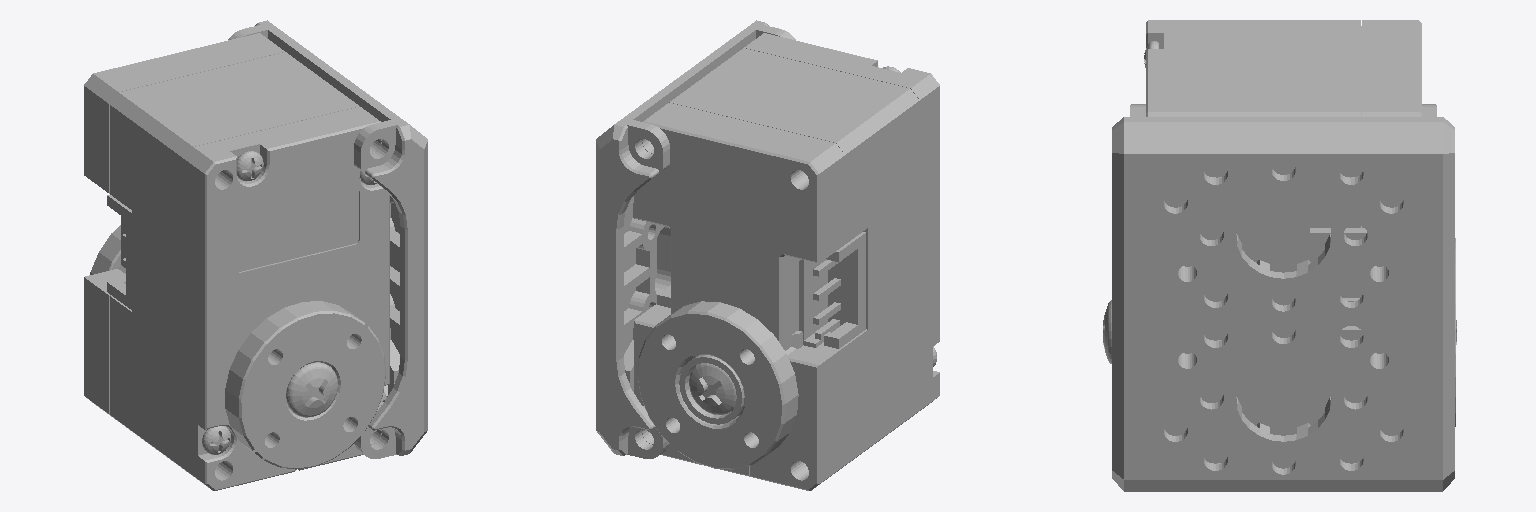
The robot description file, URDF, robot "onshape":
<robot name="onshape">
<link name="palm_lower_left">
<visual>
<origin xyz="-0.095574224938392599027 -0.11704001150113751972 0.02077960705260517571" rpy="1.57079632679489678 1.1239611599647231752e-28 3.1415926535897908956" />
<geometry>
<mesh filename="package://leap_hand_densetact/model/leap_left/palm_lower_left.stl"/>
</geometry>
<material name="palm_lower_left_material">
<color rgba="0.60392156862745094426 0.14901960784313725283 0.14901960784313725283 1.0"/>
</material>
</visual>
<collision>
<origin xyz="-0.095574224938392599027 -0.11704001150113751972 0.02077960705260517571" rpy="1.57079632679489678 1.1239611599647231752e-28 3.1415926535897908956" />
<geometry>
<mesh filename="package://leap_hand_densetact/model/leap_left/palm_lower_left.stl"/>
</geometry>
</collision>
<inertial>
<origin xyz="0 0 0" rpy="0 0 0"/>
<mass value="0.235" />
<inertia ixx="0.000351007" ixy="-0.000001393"  ixz="-0.000000694" iyy="0.000523205" iyz="-0.000003085" izz="0.000256996" />
</inertial>
</link>

<link name="mcp_joint">
<visual>
<origin xyz="0.008406902261174501248 0.0077662438597169980437 0.014657354985032899908" rpy="1.6375789613220999807e-15 -1.0045650589924324925e-30 -1.7121057196142940206e-44" />
<geometry>
<mesh filename="package://leap_hand_densetact/model/leap_left/mcp_joint.stl"/>
</geometry>
<material name="mcp_joint_material">
<color rgba="0.86666666666666669627 0.86666666666666669627 0.050980392156862744391 1.0"/>
</material>
</visual>
<collision>
<origin xyz="0.008406902261174501248 0.0077662438597169980437 0.014657354985032899908" rpy="1.6375789613220999807e-15 -1.0045650589924324925e-30 -1.7121057196142940206e-44" />
<geometry>
<mesh filename="package://leap_hand_densetact/model/leap_left/mcp_joint.stl"/>
</geometry>
</collision>
<inertial>
<origin xyz="0 0 0" rpy="0 0 0"/>
<mass value="0.044" />
<inertia ixx="0.000011499" ixy="0.000003049"  ixz="0.000000121" iyy="0.000007796" iyz="0.000000112" izz="0.000014759" />
</inertial>
</link>

<link name="pip">
<visual>
<origin xyz="0.0096433630922713314826 0.00029999999999999471534 0.00078403401041737472155" rpy="-1.570796326794896558 -1.570796326794896336 0" />
<geometry>
<mesh filename="package://leap_hand_densetact/model/leap_left/pip.stl"/>
</geometry>
<material name="pip_material">
<color rgba="0.74901960784313725839 0.74901960784313725839 0.74901960784313725839 1.0"/>
</material>
</visual>
<collision>
<origin xyz="0.0096433630922713314826 0.00029999999999999471534 0.00078403401041737472155" rpy="-1.570796326794896558 -1.570796326794896336 0" />
<geometry>
<mesh filename="package://leap_hand_densetact/model/leap_left/pip.stl"/>
</geometry>
</collision>
<inertial>
<origin xyz="0 0 0" rpy="0 0 0"/>
<mass value="0.032" />
<inertia ixx="0.000004798" ixy="0.000000012"  ixz="0.000000004" iyy="0.000002862" iyz="0.000000011" izz="0.000004234" />
</inertial>
</link>

<link name="dip">
<visual>
<origin xyz="0.021133352895225002849 -0.0084321191467048722812 0.0097850881620952234741" rpy="-3.141592653589793116 4.5075111242164408299e-32 4.4395481053923607589e-32" />
<geometry>
<mesh filename="package://leap_hand_densetact/model/leap_left/dip.stl"/>
</geometry>
<material name="dip_material">
<color rgba="0.86666666666666669627 0.86666666666666669627 0.050980392156862744391 1.0"/>
</material>
</visual>
<collision>
<origin xyz="0.021133352895225002849 -0.0084321191467048722812 0.0097850881620952234741" rpy="-3.141592653589793116 4.5075111242164408299e-32 4.4395481053923607589e-32" />
<geometry>
<mesh filename="package://leap_hand_densetact/model/leap_left/dip.stl"/>
</geometry>
</collision>
<inertial>
<origin xyz="0 0 0" rpy="0 0 0"/>
<mass value="0.037" />
<inertia ixx="0.000005542" ixy="-0.000000607"  ixz="-0.000000017" iyy="0.000005727" iyz="-0.000000023" izz="0.000006682" />
</inertial>
</link>

<link name="fingertip">
<visual>
<origin xyz="0.013286424108533503169 -0.00611423838654200167 0.014499999999999513278" rpy="3.141592653589793116 1.1993117970061734707e-33 4.4395481053923607589e-32" />
<geometry>
<mesh filename="package://leap_hand_densetact/model/leap_left/fingertip.stl"/>
</geometry>
<material name="fingertip_material">
<color rgba="0.86666666666666669627 0.86666666666666669627 0.050980392156862744391 1.0"/>
</material>
</visual>
<collision>
<origin xyz="0.013286424108533503169 -0.00611423838654200167 0.014499999999999513278" rpy="3.141592653589793116 1.1993117970061734707e-33 4.4395481053923607589e-32" />
<geometry>
<mesh filename="package://leap_hand_densetact/model/leap_left/fingertip.stl"/>
</geometry>
</collision>
<inertial>
<origin xyz="0 0 0" rpy="0 0 0"/>
<mass value="0.016" />
<inertia ixx="0.000003368" ixy="0.000000115"  ixz="0" iyy="0.000001556" iyz="0" izz="0.000002863" />
</inertial>
</link>

<joint name="0" type="revolute">
<origin xyz="-0.012200000000000005979 0.038100000000000001921 0.014499999999999985123" rpy="-1.57079632679489678 2.8029314871654157891e-15 1.570796326794896336" />
<parent link="mcp_joint" />
<child link="pip" />
<axis xyz="0 0 -1"/>
<limit effort="0.95" velocity="8.48" lower = "-1.047" upper = "1.047"/>
<joint_properties friction="0.0"/>
</joint>

<joint name="1" type="revolute">
<origin xyz="-0.082574224938392518092 -0.085740011501137525229 0.0078008885838987494094" rpy="1.5707963267948987784 1.570796326794896558 0" />
<parent link="palm_lower_left" />
<child link="mcp_joint" />
<axis xyz="0 0 -1"/>
<limit effort="0.95" velocity="8.48" lower = "-0.314" upper = "2.23"/>
<joint_properties friction="0.0"/>
</joint>

<joint name="2" type="revolute">
<origin xyz="0.014999999999999961281 0.014299999999999993272 -0.013000000000000025424" rpy="1.5707963267948958919 -1.570796326794896336 0" />
<parent link="pip" />
<child link="dip" />
<axis xyz="0 0 -1"/>
<limit effort="0.95" velocity="8.48" lower = "-0.506" upper = "1.885"/>  
<joint_properties friction="0.0"/>
</joint>

<joint name="3" type="revolute">
<origin xyz="-4.0880582469551840497e-09 -0.03610000421036734658 0.0002000000000000612399" rpy="4.5935029425113685044e-17 -2.8730071914463794583e-16 4.4395481053923607589e-32" />
<parent link="dip" />
<child link="fingertip" />
<axis xyz="0 0 -1"/>
<limit effort="0.95" velocity="8.48" lower = "-0.366" upper = "2.042"/>   
<joint_properties friction="0.0"/>
</joint>

<link name="mcp_joint_2">
<visual>
<origin xyz="0.008406902261174501248 0.0077662438597169841659 0.014657354985032906847" rpy="1.6375789613220997835e-15 -1.0045650589925207743e-30 -1.2404717968013979433e-44" />
<geometry>
<mesh filename="package://leap_hand_densetact/model/leap_left/mcp_joint.stl"/>
</geometry>
<material name="mcp_joint_material">
<color rgba="0.86666666666666669627 0.86666666666666669627 0.050980392156862744391 1.0"/>
</material>
</visual>
<collision>
<origin xyz="0.008406902261174501248 0.0077662438597169841659 0.014657354985032906847" rpy="1.6375789613220997835e-15 -1.0045650589925207743e-30 -1.2404717968013979433e-44" />
<geometry>
<mesh filename="package://leap_hand_densetact/model/leap_left/mcp_joint.stl"/>
</geometry>
</collision>
<inertial>
<origin xyz="0 0 0" rpy="0 0 0"/>
<mass value="0.044" />
<inertia ixx="0.000011499" ixy="0.000003049"  ixz="0.000000121" iyy="0.000007796" iyz="0.000000112" izz="0.000014759" />
</inertial>
</link>

<link name="pip_2">
<visual>
<origin xyz="0.0096433630922713314826 0.00029999999999998777644 0.00078403401041737472155" rpy="-1.570796326794896558 -1.570796326794896336 0" />
<geometry>
<mesh filename="package://leap_hand_densetact/model/leap_left/pip.stl"/>
</geometry>
<material name="pip_material">
<color rgba="0.74901960784313725839 0.74901960784313725839 0.74901960784313725839 1.0"/>
</material>
</visual>
<collision>
<origin xyz="0.0096433630922713314826 0.00029999999999998777644 0.00078403401041737472155" rpy="-1.570796326794896558 -1.570796326794896336 0" />
<geometry>
<mesh filename="package://leap_hand_densetact/model/leap_left/pip.stl"/>
</geometry>
</collision>
<inertial>
<origin xyz="0 0 0" rpy="0 0 0"/>
<mass value="0.032" />
<inertia ixx="0.000004798" ixy="0.000000012"  ixz="0.000000004" iyy="0.000002862" iyz="0.000000011" izz="0.000004234" />
</inertial>
</link>

<link name="dip_2">
<visual>
<origin xyz="0.021133352895225002849 -0.0084321191467048722812 0.0097850881620952373519" rpy="-3.141592653589793116 2.1146933785271955805e-32 1.4408183216511868558e-31" />
<geometry>
<mesh filename="package://leap_hand_densetact/model/leap_left/dip.stl"/>
</geometry>
<material name="dip_material">
<color rgba="0.86666666666666669627 0.86666666666666669627 0.050980392156862744391 1.0"/>
</material>
</visual>
<collision>
<origin xyz="0.021133352895225002849 -0.0084321191467048722812 0.0097850881620952373519" rpy="-3.141592653589793116 2.1146933785271955805e-32 1.4408183216511868558e-31" />
<geometry>
<mesh filename="package://leap_hand_densetact/model/leap_left/dip.stl"/>
</geometry>
</collision>
<inertial>
<origin xyz="0 0 0" rpy="0 0 0"/>
<mass value="0.037" />
<inertia ixx="0.000005542" ixy="-0.000000607"  ixz="-0.000000017" iyy="0.000005727" iyz="-0.000000023" izz="0.000006682" />
</inertial>
</link>

<link name="fingertip_2">
<visual>
<origin xyz="0.013286424108533503169 -0.0061142383865419982006 0.014499999999999492462" rpy="3.141592653589793116 -4.3179597882835943107e-33 1.4408183216511868558e-31" />
<geometry>
<mesh filename="package://leap_hand_densetact/model/leap_left/fingertip.stl"/>
</geometry>
<material name="fingertip_material">
<color rgba="0.86666666666666669627 0.86666666666666669627 0.050980392156862744391 1.0"/>
</material>
</visual>
<collision>
<origin xyz="0.013286424108533503169 -0.0061142383865419982006 0.014499999999999492462" rpy="3.141592653589793116 -4.3179597882835943107e-33 1.4408183216511868558e-31" />
<geometry>
<mesh filename="package://leap_hand_densetact/model/leap_left/fingertip.stl"/>
</geometry>
</collision>
<inertial>
<origin xyz="0 0 0" rpy="0 0 0"/>
<mass value="0.016" />
<inertia ixx="0.000003368" ixy="0.000000115"  ixz="0" iyy="0.000001556" iyz="0" izz="0.000002863" />
</inertial>
</link>

<joint name="4" type="revolute">
<origin xyz="-0.012200000000000002509 0.038099999999999988043 0.014499999999999999001" rpy="-1.570796326794896558 1.6094417208041279902e-15 1.5707963267948943376" />
<parent link="mcp_joint_2" />
<child link="pip_2" />
<axis xyz="0 0 -1"/>
<limit effort="0.95" velocity="8.48" lower = "-1.047" upper = "1.047"/>
<joint_properties friction="0.0"/>
</joint>

<joint name="5" type="revolute">
<origin xyz="-0.08257422493900856697 -0.040290011501137479311 0.007800888583679612201" rpy="1.5707963267948992225 1.570796326794896558 0" />
<parent link="palm_lower_left" />
<child link="mcp_joint_2" />
<axis xyz="0 0 -1"/>
<limit effort="0.95" velocity="8.48" lower = "-0.314" upper = "2.23"/>
<joint_properties friction="0.0"/>
</joint>

<joint name="6" type="revolute">
<origin xyz="0.01499999999999996475 0.014299999999999986333 -0.013000000000000025424" rpy="1.5707963267948958919 -1.570796326794896336 0" />
<parent link="pip_2" />
<child link="dip_2" />
<axis xyz="0 0 -1"/>
<limit effort="0.95" velocity="8.48" lower = "-0.506" upper = "1.885"/>  
<joint_properties friction="0.0"/>
</joint>


<joint name="7" type="revolute">
<origin xyz="1.0408340855860842566e-16 -0.036099999999999875244 0.00020000000000007511769" rpy="4.5935029425113654229e-17 -2.8730071914463794583e-16 1.4408183216511868558e-31" />
<parent link="dip_2" />
<child link="fingertip_2" />
<axis xyz="0 0 -1"/>
<limit effort="0.95" velocity="8.48" lower = "-0.366" upper = "2.042"/>   
<joint_properties friction="0.0"/>
</joint>

<link name="mcp_joint_3">
<visual>
<origin xyz="0.008406902261174501248 0.0077662438597169980437 0.014657354985032912051" rpy="1.6375789613220999807e-15 -1.0045650589924056927e-30 -1.6748666234615871922e-44" />
<geometry>
<mesh filename="package://leap_hand_densetact/model/leap_left/mcp_joint.stl"/>
</geometry>
<material name="mcp_joint_material">
<color rgba="0.86666666666666669627 0.86666666666666669627 0.050980392156862744391 1.0"/>
</material>
</visual>
<collision>
<origin xyz="0.008406902261174501248 0.0077662438597169980437 0.014657354985032912051" rpy="1.6375789613220999807e-15 -1.0045650589924056927e-30 -1.6748666234615871922e-44" />
<geometry>
<mesh filename="package://leap_hand_densetact/model/leap_left/mcp_joint.stl"/>
</geometry>
</collision>
<inertial>
<origin xyz="0 0 0" rpy="0 0 0"/>
<mass value="0.044" />
<inertia ixx="0.000011499" ixy="0.000003049"  ixz="0.000000121" iyy="0.000007796" iyz="0.000000112" izz="0.000014759" />
</inertial>
</link>

<link name="pip_3">
<visual>
<origin xyz="0.0096433630922713314826 0.00029999999999999124589 0.00078403401041737472155" rpy="-1.570796326794896558 -1.570796326794896336 0" />
<geometry>
<mesh filename="package://leap_hand_densetact/model/leap_left/pip.stl"/>
</geometry>
<material name="pip_material">
<color rgba="0.74901960784313725839 0.74901960784313725839 0.74901960784313725839 1.0"/>
</material>
</visual>
<collision>
<origin xyz="0.0096433630922713314826 0.00029999999999999124589 0.00078403401041737472155" rpy="-1.570796326794896558 -1.570796326794896336 0" />
<geometry>
<mesh filename="package://leap_hand_densetact/model/leap_left/pip.stl"/>
</geometry>
</collision>
<inertial>
<origin xyz="0 0 0" rpy="0 0 0"/>
<mass value="0.032" />
<inertia ixx="0.000004798" ixy="0.000000012"  ixz="0.000000004" iyy="0.000002862" iyz="0.000000011" izz="0.000004234" />
</inertial>
</link>

<link name="dip_3">
<visual>
<origin xyz="0.021133352895225006318 -0.0084321191467048688117 0.0097850881620952408213" rpy="-3.141592653589793116 -1.4095651113919093005e-33 1.5565411607615035382e-32" />
<geometry>
<mesh filename="package://leap_hand_densetact/model/leap_left/dip.stl"/>
</geometry>
<material name="dip_material">
<color rgba="0.86666666666666669627 0.86666666666666669627 0.050980392156862744391 1.0"/>
</material>
</visual>
<collision>
<origin xyz="0.021133352895225006318 -0.0084321191467048688117 0.0097850881620952408213" rpy="-3.141592653589793116 -1.4095651113919093005e-33 1.5565411607615035382e-32" />
<geometry>
<mesh filename="package://leap_hand_densetact/model/leap_left/dip.stl"/>
</geometry>
</collision>
<inertial>
<origin xyz="0 0 0" rpy="0 0 0"/>
<mass value="0.037" />
<inertia ixx="0.000005542" ixy="-0.000000607"  ixz="-0.000000017" iyy="0.000005727" iyz="-0.000000023" izz="0.000006682" />
</inertial>
</link>

<link name="fingertip_3">
<visual>
<origin xyz="0.013286424108533499699 -0.00611423838654200167 0.014499999999999495931" rpy="3.141592653589793116 8.6170716950575402125e-33 1.5565411607615035382e-32" />
<geometry>
<mesh filename="package://leap_hand_densetact/model/leap_left/fingertip.stl"/>
</geometry>
<material name="fingertip_material">
<color rgba="0.86666666666666669627 0.86666666666666669627 0.050980392156862744391 1.0"/>
</material>
</visual>
<collision>
<origin xyz="0.013286424108533499699 -0.00611423838654200167 0.014499999999999495931" rpy="3.141592653589793116 8.6170716950575402125e-33 1.5565411607615035382e-32" />
<geometry>
<mesh filename="package://leap_hand_densetact/model/leap_left/fingertip.stl"/>
</geometry>
</collision>
<inertial>
<origin xyz="0 0 0" rpy="0 0 0"/>
<mass value="0.016" />
<inertia ixx="0.000003368" ixy="0.000000115"  ixz="0" iyy="0.000001556" iyz="0" izz="0.000002863" />
</inertial>
</link>

<joint name="8" type="revolute">
<origin xyz="-0.012200000000000002509 0.038100000000000001921 0.01450000000000000247" rpy="-1.57079632679489678 2.8029314871654240721e-15 1.570796326794896336" />
<parent link="mcp_joint_3" />
<child link="pip_3" />
<axis xyz="0 0 -1"/>
<limit effort="0.95" velocity="8.48" lower = "-1.047" upper = "1.047"/>
<joint_properties friction="0.0"/>
</joint>

<joint name="9" type="revolute">
<origin xyz="-0.082574224938392323803 0.0051599884988625839555 0.0078008885838987598177" rpy="1.5707963267948987784 1.570796326794896558 0" />
<parent link="palm_lower_left" />
<child link="mcp_joint_3" />
<axis xyz="0 0 -1"/>
<limit effort="0.95" velocity="8.48" lower = "-0.314" upper = "2.23"/>
<joint_properties friction="0.0"/>
</joint>

<joint name="10" type="revolute">
<origin xyz="0.01499999999999996822 0.014299999999999989803 -0.013000000000000025424" rpy="1.5707963267948958919 -1.570796326794896336 0" />
<parent link="pip_3" />
<child link="dip_3" />
<axis xyz="0 0 -1"/>
<limit effort="0.95" velocity="8.48" lower = "-0.506" upper = "1.885"/>  
<joint_properties friction="0.0"/>
</joint>

<joint name="11" type="revolute">
<origin xyz="1.0234868508263161857e-16 -0.036099999999999868305 0.00020000000000007858714" rpy="4.5935029425113685044e-17 -2.8730071914463799514e-16 1.5565411607615035382e-32" />
<parent link="dip_3" />
<child link="fingertip_3" />
<axis xyz="0 0 -1"/>
<limit effort="0.95" velocity="8.48" lower = "-0.366" upper = "2.042"/>   
<joint_properties friction="0.0"/>
</joint>

<link name="thumb_left_temp_base">
<visual>
<origin xyz="0.043932212010113096123 0.0068107072931437306895 0.021460907869434775463" rpy="1.570796326794896558 -7.3390819752428127848e-33 -2.4651903288114908395e-32" />
<geometry>
<mesh filename="package://leap_hand_densetact/model/leap_left/thumb_left_temp_base.stl"/>
</geometry>
<material name="thumb_left_temp_base_material">
<color rgba="0.74901960784313725839 0.74901960784313725839 0.74901960784313725839 1.0"/>
</material>
</visual>
<collision>
<origin xyz="0.043932212010113096123 0.0068107072931437306895 0.021460907869434775463" rpy="1.570796326794896558 -7.3390819752428127848e-33 -2.4651903288114908395e-32" />
<geometry>
<mesh filename="package://leap_hand_densetact/model/leap_left/thumb_left_temp_base.stl"/>
</geometry>
</collision>
<inertial>
<origin xyz="0 0 0" rpy="0 0 0"/>
<mass value="0.032" />
<inertia ixx="0.000004798" ixy="0.000000012"  ixz="0.000000004" iyy="0.000002862" iyz="0.000000011" izz="0.000004234" />
</inertial>
</link>

<link name="thumb_pip">
<visual>
<origin xyz="0.011961920770611200737 -5.3169274538689137444e-16 -0.015852648956664189273" rpy="1.570796326794896558 1.6544612350564779759e-32 0" />
<geometry>
<mesh filename="package://leap_hand_densetact/model/leap_left/thumb_pip.stl"/>
</geometry>
<material name="thumb_pip_material">
<color rgba="0.86666666666666669627 0.86666666666666669627 0.050980392156862744391 1.0"/>
</material>
</visual>
<collision>
<origin xyz="0.011961920770611200737 -5.3169274538689137444e-16 -0.015852648956664189273" rpy="1.570796326794896558 1.6544612350564779759e-32 0" />
<geometry>
<mesh filename="package://leap_hand_densetact/model/leap_left/thumb_pip.stl"/>
</geometry>
</collision>
<inertial>
<origin xyz="0 0 0" rpy="0 0 0"/>
<mass value="0.003" />
<inertia ixx="0.000000593" ixy="0"  ixz="0" iyy="0.000000549" iyz="0" izz="0.000000224" />
</inertial>
</link>

<link name="thumb_dip">
<visual>
<origin xyz="0.043968715707239161561 0.057952952973709212503 -0.0086286764493694757122" rpy="1.9428902930940096476e-16 3.2751579226442204717e-15 -2.172448977268026949e-31" />
<geometry>
<mesh filename="package://leap_hand_densetact/model/leap_left/thumb_dip.stl"/>
</geometry>
<material name="thumb_dip_material">
<color rgba="0.86666666666666669627 0.86666666666666669627 0.050980392156862744391 1.0"/>
</material>
</visual>
<collision>
<origin xyz="0.043968715707239161561 0.057952952973709212503 -0.0086286764493694757122" rpy="1.9428902930940096476e-16 3.2751579226442204717e-15 -2.172448977268026949e-31" />
<geometry>
<mesh filename="package://leap_hand_densetact/model/leap_left/thumb_dip.stl"/>
</geometry>
</collision>
<inertial>
<origin xyz="0 0 0" rpy="0 0 0"/>
<mass value="0.038" />
<inertia ixx="0.000008474" ixy="0.000000241"  ixz="0.000000026" iyy="0.000003841" iyz="0.000000025" izz="0.000007679" />
</inertial>
</link>

<link name="thumb_fingertip">
<visual>
<origin xyz="0.062559538462667402259 0.078459682911396960714 0.048992911807332208129" rpy="2.586996940753466404e-33 -3.3306690738754701143e-16 4.6050499879454267902e-33" />
<geometry>
<mesh filename="package://leap_hand_densetact/model/leap_left/thumb_fingertip.stl"/>
</geometry>
<material name="thumb_fingertip_material">
<color rgba="0.60392156862745094426 0.14901960784313725283 0.14901960784313725283 1.0"/>
</material>
</visual>
<collision>
<origin xyz="0.062559538462667402259 0.078459682911396960714 0.048992911807332208129" rpy="2.586996940753466404e-33 -3.3306690738754701143e-16 4.6050499879454267902e-33" />
<geometry>
<mesh filename="package://leap_hand_densetact/model/leap_left/thumb_fingertip.stl"/>
</geometry>
</collision>
<inertial>
<origin xyz="0 0 0" rpy="0 0 0"/>
<mass value="0.049" />
<inertia ixx="0.000020372" ixy="-0.000000489"  ixz="-0.00000003" iyy="0.000004336" iyz="-0.000000097" izz="0.000019845" />
</inertial>
</link>

<joint name="12" type="revolute">
<origin xyz="-1.0148132334464321502e-16 -0.014100000000000126321 -0.012999999999999956035" rpy="-1.570796326794896336 -1.570796326794896336 0" />
<parent link="thumb_left_temp_base" />
<child link="thumb_pip" />
<axis xyz="0 0 -1"/>
<limit effort="0.95" velocity="8.48" lower = "-2.094" upper = "0.349"/> 
<joint_properties friction="0.0"/>
</joint>

<joint name="13" type="revolute">
<origin xyz="-0.14487422493839263726 -0.090040011501137440231 0.004900888583899039308" rpy="3.5629789726327258012e-15 1.5707963267948961139 0" />
<parent link="palm_lower_left" />
<child link="thumb_left_temp_base" />
<axis xyz="0 0 -1"/>
<limit effort="0.95" velocity="8.48" lower = "-2.443" upper = "0.47"/> 
<joint_properties friction="0.0"/>
</joint>

<joint name="14" type="revolute">
<origin xyz="0 0.014499999999999967776 -0.017000000000000042855" rpy="-1.570796326794896558 -1.5671206742950610653e-15 -5.6898930012051145053e-16" />
<parent link="thumb_pip" />
<child link="thumb_dip" />
<axis xyz="0 0 -1"/>
<limit effort="0.95" velocity="8.48" lower = "-1.20" upper = "1.90"/> 
<joint_properties friction="0.0"/>
</joint>

<joint name="15" type="revolute">
<origin xyz="-1.1102230246251565404e-16 0.046599999999999683342 0.00020000000000065451533" rpy="-3.1092019091748562186e-17 -4.9644253794601335075e-16 -3.1415926535897846783" />
<parent link="thumb_dip" />
<child link="thumb_fingertip" />
<axis xyz="0 0 -1"/>
<limit effort="0.95" velocity="8.48" lower = "-1.34" upper = "1.88"/> 
<joint_properties friction="0.0"/>
</joint>

</robot>

--- What the picture shows (computed from the rendered views, not written in the file) ---
The picture shows the robot from 3 angles, left to right: view 1: azimuth 30°, elevation 25°; view 2: azimuth 150°, elevation 25°; view 3: azimuth 270°, elevation 25°; orthographic projection.
Model onshape with 17 links and 16 joints (16 revolute), rooted at palm_lower_left, posed every joint at zero.
Visible links, largest first — view 1: thumb_left_temp_base; view 2: thumb_left_temp_base; view 3: thumb_left_temp_base.
Link boxes in pixels (x1=…): thumb_left_temp_base: x1=84, y1=20, x2=427, y2=490; thumb_left_temp_base: x1=596, y1=20, x2=939, y2=490; thumb_left_temp_base: x1=1103, y1=20, x2=1456, y2=491.
Size in the robot's own frame: 0.023 by 0.0295 by 0.034 metres.
Meshes: 9 distinct files referenced, 1 mesh visuals loaded (1 binary STL); not drawn: 16 (reference not matched to a file when rendering).